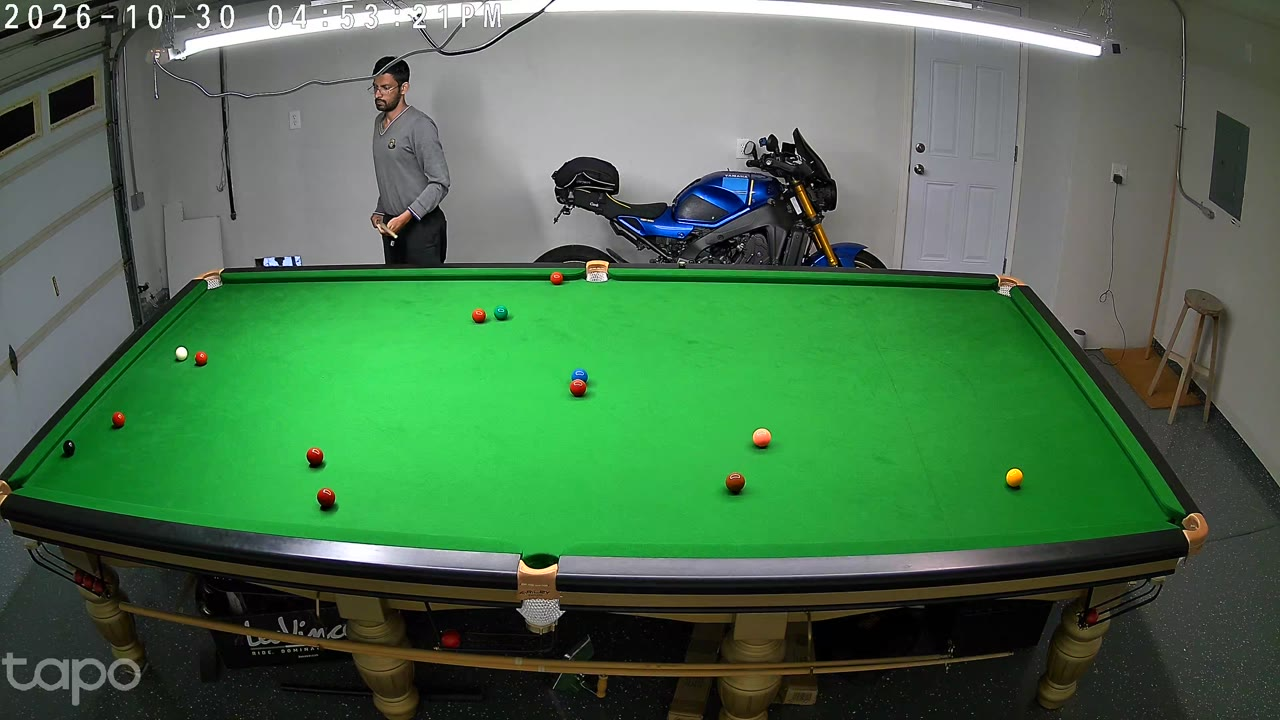black: (62, 438, 75, 459)
brown: (725, 471, 744, 496)
green: (494, 304, 507, 323)
pink: (753, 427, 770, 450)
red: (317, 486, 336, 512), (307, 446, 323, 469), (571, 378, 585, 399), (112, 410, 125, 430), (473, 308, 485, 326), (196, 350, 207, 368), (551, 271, 562, 288)
white: (176, 345, 188, 363)
yellow: (1006, 467, 1023, 489)
